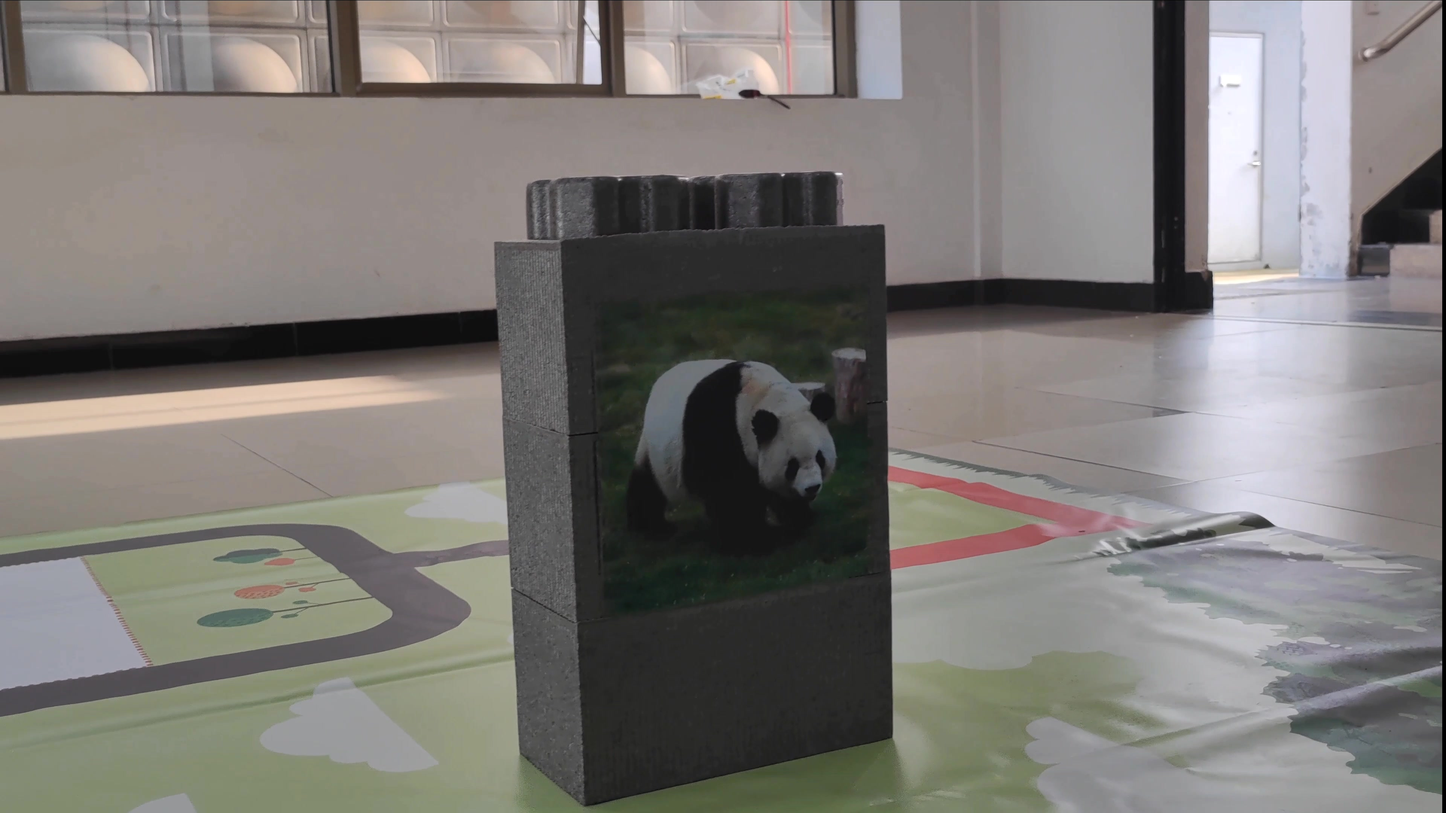panda: (613, 334, 866, 555)
